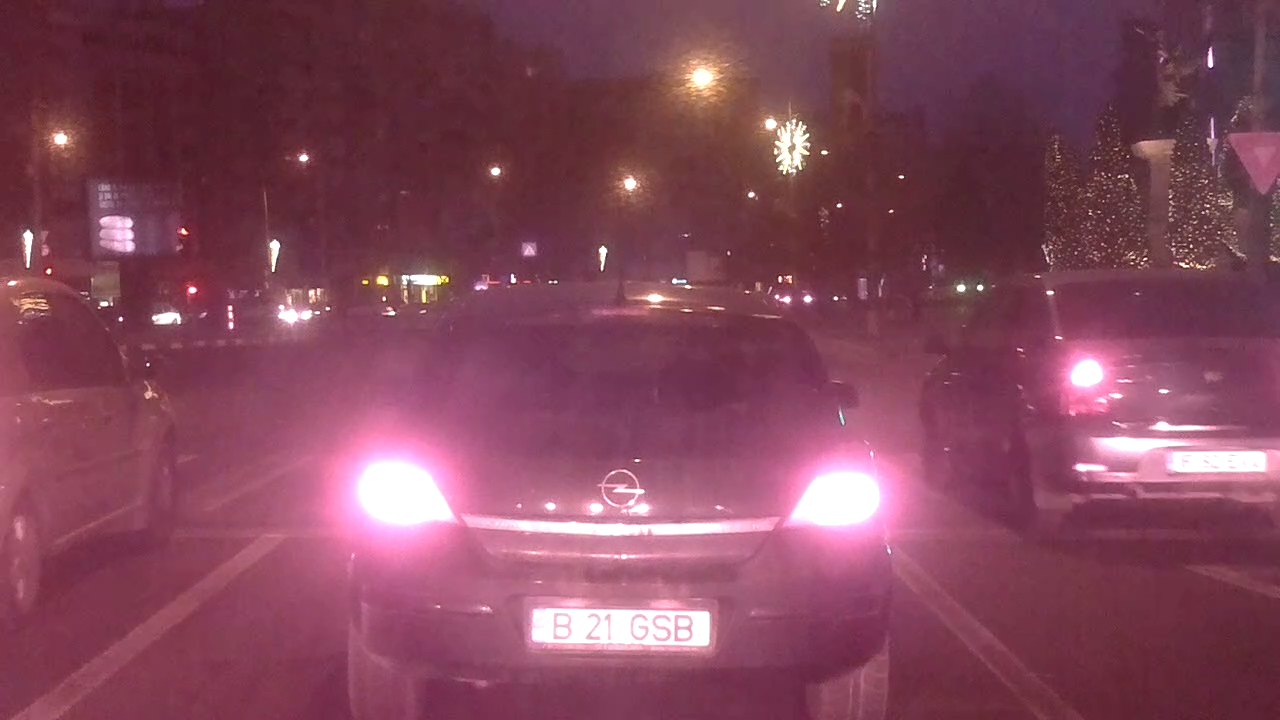license-plate: (527, 603, 715, 650)
